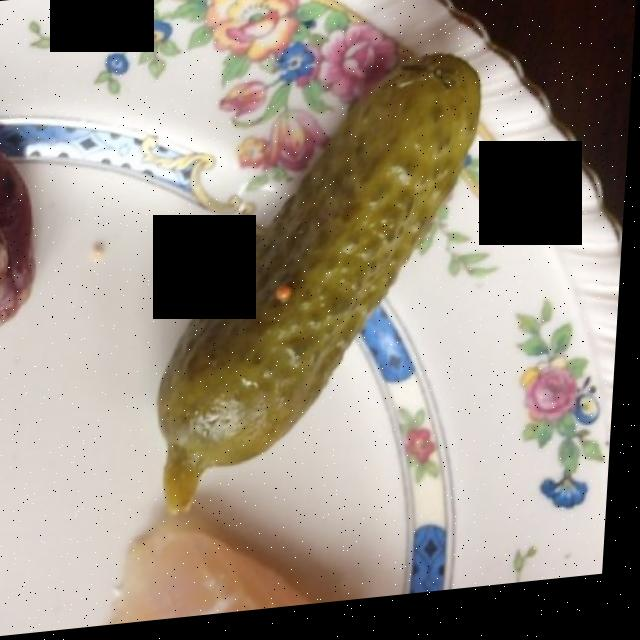cucumber-pickled: (171, 75, 482, 508)
